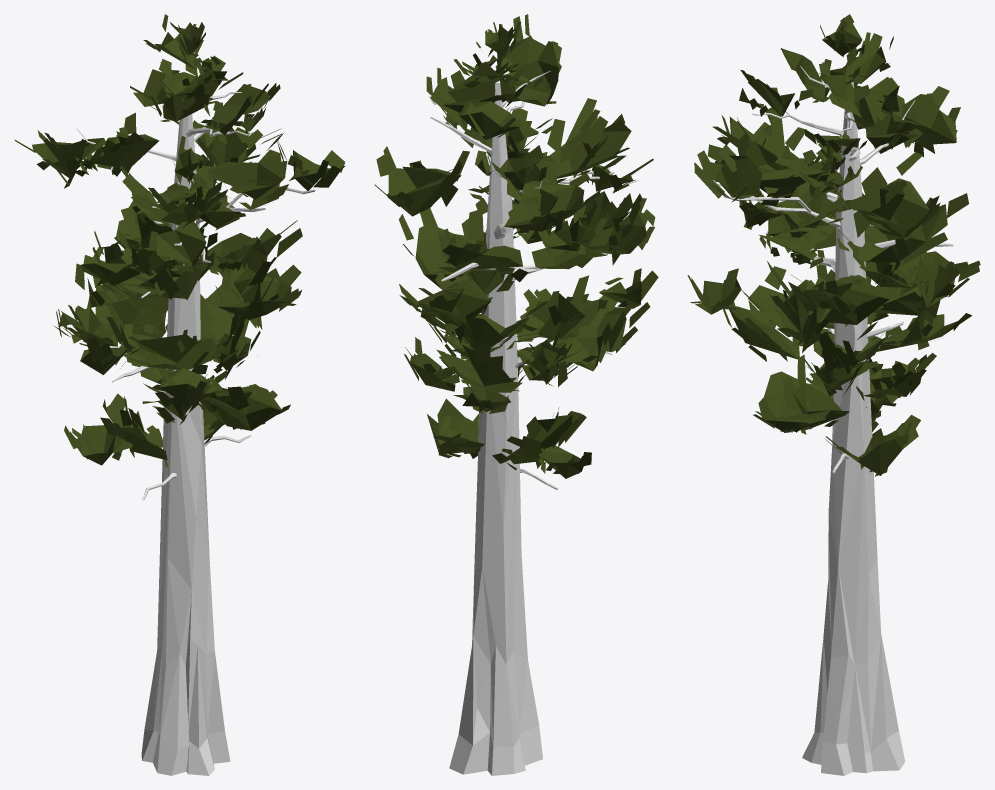
The model's file is SM_Tree_Sequoia_Young_A.fbx.
The picture shows the model from 3 angles, left to right: view 1: azimuth 30°, elevation 25°; view 2: azimuth 150°, elevation 25°; view 3: azimuth 270°, elevation 25°; orthographic projection.
Visible parts, largest first — view 1: tree-sequoia-young-a; view 2: tree-sequoia-young-a; view 3: tree-sequoia-young-a.
Part boxes in pixels (x1,y1,x2,y2): tree-sequoia-young-a: (14,14,345,775); tree-sequoia-young-a: (374,14,658,775); tree-sequoia-young-a: (687,14,980,775).
Size of the model in its own units: 3.78 by 11.28 by 4.07.
